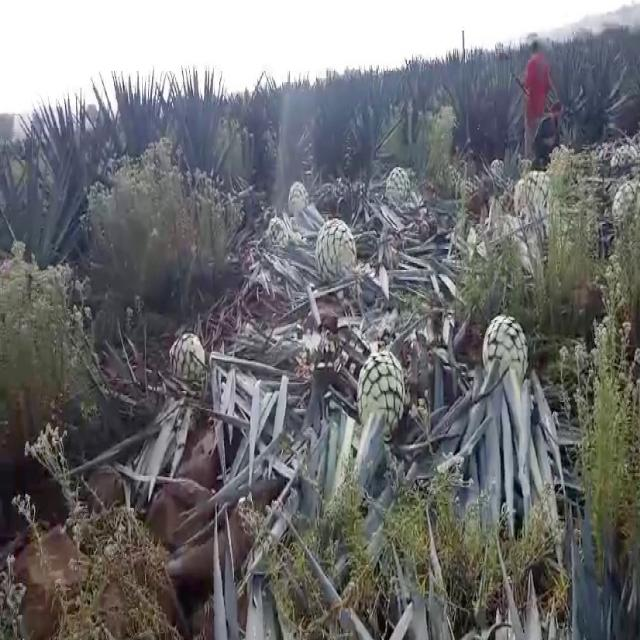agave: (355, 345, 406, 443), (481, 309, 528, 384), (313, 217, 359, 287), (517, 160, 555, 226), (167, 327, 206, 382), (386, 166, 414, 214), (286, 181, 309, 217), (266, 217, 288, 254)
